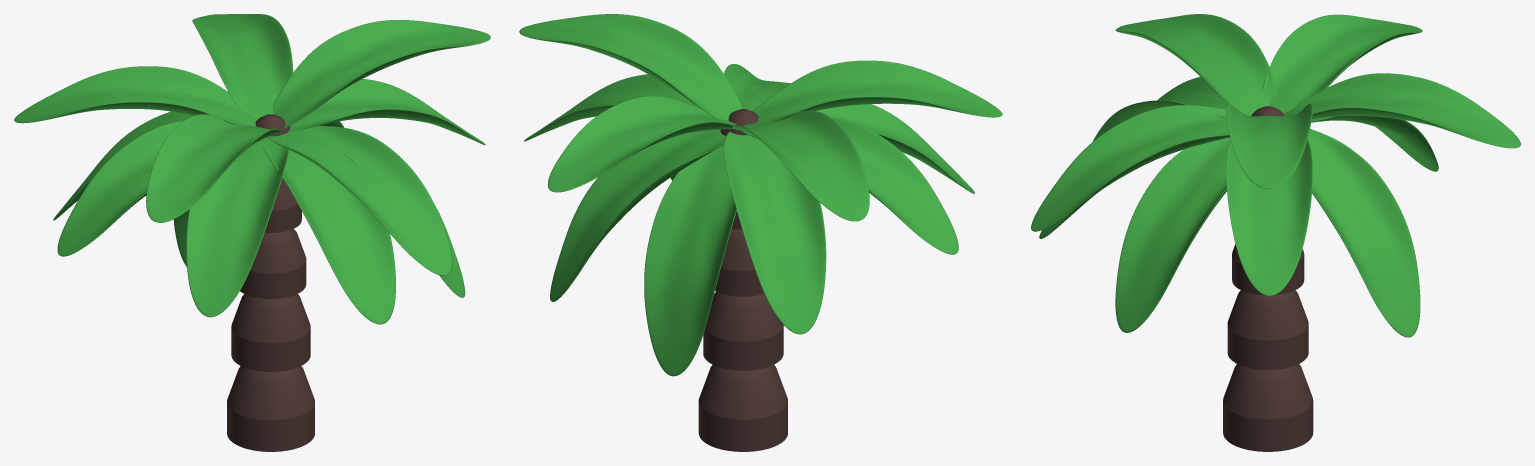
File: tree4.fbx
The picture shows the model from 3 angles, left to right: view 1: azimuth 30°, elevation 25°; view 2: azimuth 150°, elevation 25°; view 3: azimuth 270°, elevation 25°; orthographic projection. The views are drawn at different scales.
Visible parts, largest first — view 1: pCylinder31, pDisc37, pDisc28, pDisc38, pDisc39, pDisc30, pDisc27, pDisc32, pDisc33, pDisc35, pDisc29, pDisc36 (+1 smaller); view 2: pCylinder31, pDisc31, pDisc29, pDisc39, pDisc27, pDisc34, pDisc32, pDisc30, pDisc33, pDisc37, pDisc35, pDisc28; view 3: pCylinder31, pDisc34, pDisc36, pDisc28, pDisc35, pDisc32, pDisc27, pDisc30, pDisc39, pDisc37, pDisc29.
Boxes of the visible parts, left/top/right/bottom form: pCylinder31: left=227, top=114, right=314, bottom=451; pDisc37: left=186, top=137, right=288, bottom=317; pDisc28: left=267, top=125, right=452, bottom=275; pDisc38: left=262, top=146, right=395, bottom=324; pDisc39: left=272, top=20, right=490, bottom=128; pDisc30: left=14, top=66, right=257, bottom=126; pDisc27: left=146, top=114, right=282, bottom=222; pDisc32: left=192, top=14, right=293, bottom=118; pDisc33: left=57, top=121, right=267, bottom=256; pDisc35: left=289, top=79, right=485, bottom=145; pDisc29: left=53, top=111, right=193, bottom=220; pDisc36: left=435, top=206, right=465, bottom=297; pCylinder31: left=698, top=109, right=787, bottom=451; pDisc31: left=644, top=145, right=736, bottom=376; pDisc29: left=723, top=131, right=826, bottom=334; pDisc39: left=519, top=14, right=743, bottom=120; pDisc27: left=752, top=60, right=1002, bottom=122; pDisc34: left=550, top=129, right=725, bottom=301; pDisc32: left=548, top=96, right=736, bottom=192; pDisc30: left=732, top=110, right=869, bottom=221; pDisc33: left=742, top=117, right=958, bottom=254; pDisc37: left=816, top=104, right=974, bottom=193; pDisc35: left=524, top=74, right=700, bottom=141; pDisc28: left=724, top=64, right=790, bottom=111; pCylinder31: left=1223, top=106, right=1313, bottom=451; pDisc34: left=1307, top=129, right=1420, bottom=337; pDisc36: left=1115, top=137, right=1230, bottom=332; pDisc28: left=1031, top=105, right=1229, bottom=231; pDisc35: left=1226, top=139, right=1312, bottom=296; pDisc32: left=1284, top=73, right=1520, bottom=148; pDisc27: left=1115, top=14, right=1277, bottom=115; pDisc30: left=1262, top=14, right=1422, bottom=113; pDisc39: left=1226, top=103, right=1312, bottom=188; pDisc37: left=1093, top=77, right=1227, bottom=141; pDisc29: left=1311, top=116, right=1438, bottom=171.
Bounding box in the file's own units: 11.24 × 9.15 × 10.86.
